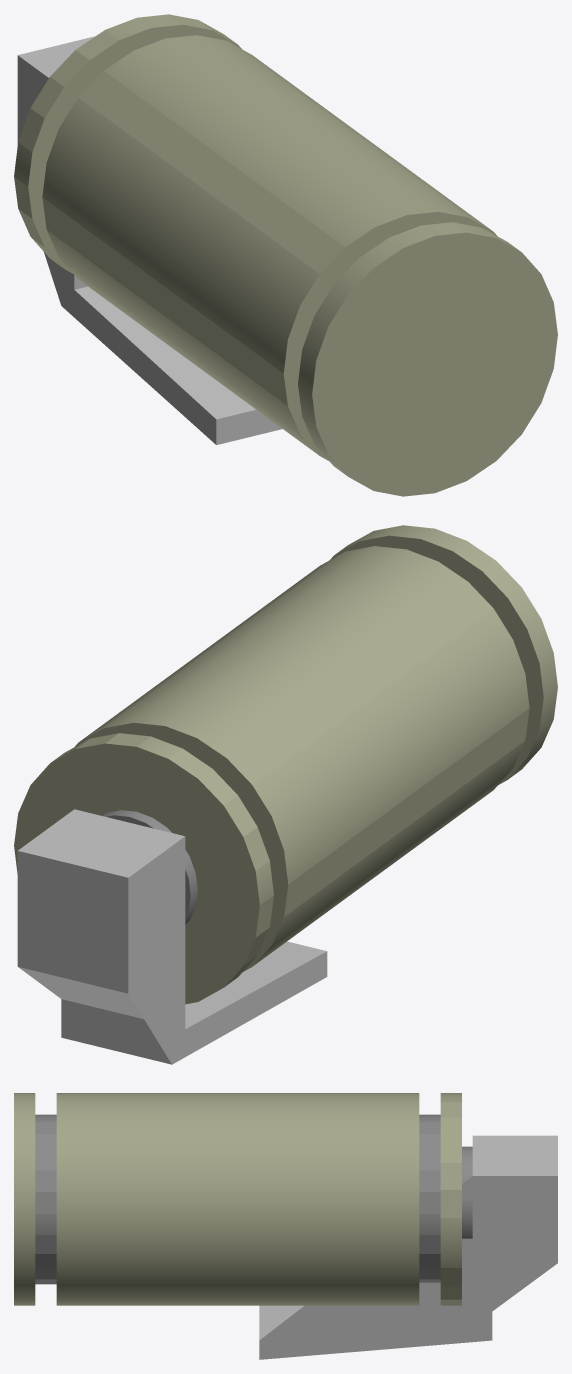
Rendered from grenadesmoke.fbx.
3 renders of one model, top to bottom at view 1: azimuth 30°, elevation 25°; view 2: azimuth 150°, elevation 25°; view 3: azimuth 270°, elevation 25°, orthographic. The views are drawn at different scales.
Parts seen in each view (by area): view 1: imagetostl_mesh1, imagetostl_mesh90, imagetostl_mesh143, imagetostl_mesh89, imagetostl_mesh112, imagetostl_mesh88, imagetostl_mesh113, imagetostl_mesh138, imagetostl_mesh114, imagetostl_mesh300, imagetostl_mesh137, imagetostl_mesh306 (+18 smaller); view 2: imagetostl_mesh304, imagetostl_mesh300, imagetostl_mesh90, imagetostl_mesh143, imagetostl_mesh89, imagetostl_mesh112, imagetostl_mesh88, imagetostl_mesh113, imagetostl_mesh138, imagetostl_mesh114, imagetostl_mesh220, imagetostl_mesh137 (+22 smaller); view 3: imagetostl_mesh298, imagetostl_mesh297, imagetostl_mesh117, imagetostl_mesh116, imagetostl_mesh295, imagetostl_mesh115, imagetostl_mesh292, imagetostl_mesh114, imagetostl_mesh291, imagetostl_mesh304, imagetostl_mesh113, imagetostl_mesh290 (+27 smaller).
Boxes of the visible parts, box(x1,y1,x2,y2) form: imagetostl_mesh1: box(312, 232, 557, 496); imagetostl_mesh90: box(59, 97, 319, 340); imagetostl_mesh143: box(78, 71, 344, 273); imagetostl_mesh89: box(46, 129, 299, 339); imagetostl_mesh112: box(104, 51, 374, 247); imagetostl_mesh88: box(42, 163, 287, 373); imagetostl_mesh113: box(134, 38, 406, 226); imagetostl_mesh138: box(42, 197, 287, 405); imagetostl_mesh114: box(165, 35, 437, 214); imagetostl_mesh300: box(17, 55, 216, 444); imagetostl_mesh137: box(47, 230, 299, 433); imagetostl_mesh306: box(75, 286, 255, 419); imagetostl_mesh304: box(17, 809, 184, 993); imagetostl_mesh300: box(128, 836, 327, 1064); imagetostl_mesh90: box(252, 608, 512, 815); imagetostl_mesh143: box(227, 582, 493, 784); imagetostl_mesh89: box(272, 640, 525, 849); imagetostl_mesh112: box(197, 561, 467, 757); imagetostl_mesh88: box(284, 674, 529, 884); imagetostl_mesh113: box(166, 549, 437, 737); imagetostl_mesh138: box(284, 708, 529, 916); imagetostl_mesh114: box(134, 546, 406, 725); imagetostl_mesh220: box(224, 806, 273, 986); imagetostl_mesh137: box(272, 741, 524, 944); imagetostl_mesh298: box(259, 1176, 557, 1359); imagetostl_mesh297: box(56, 1190, 419, 1244); imagetostl_mesh117: box(56, 1163, 419, 1189); imagetostl_mesh116: box(56, 1138, 419, 1162); imagetostl_mesh295: box(56, 1244, 419, 1267); imagetostl_mesh115: box(56, 1117, 419, 1138); imagetostl_mesh292: box(56, 1268, 419, 1286); imagetostl_mesh114: box(56, 1102, 419, 1117); imagetostl_mesh291: box(56, 1286, 419, 1299); imagetostl_mesh304: box(472, 1135, 557, 1175); imagetostl_mesh113: box(56, 1094, 419, 1102); imagetostl_mesh290: box(56, 1299, 419, 1305).
Bounding box in the file's own units: 1.2 × 1.47 × 3.06.
